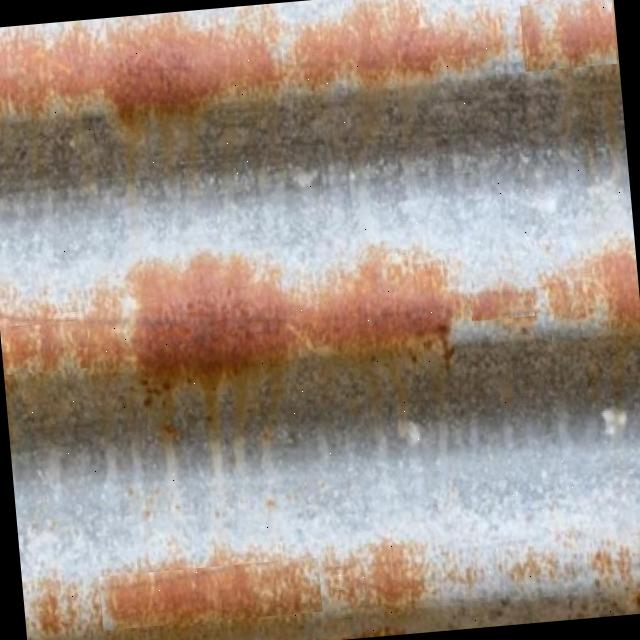Corrosion: (0, 0, 640, 640), (0, 208, 640, 483)
